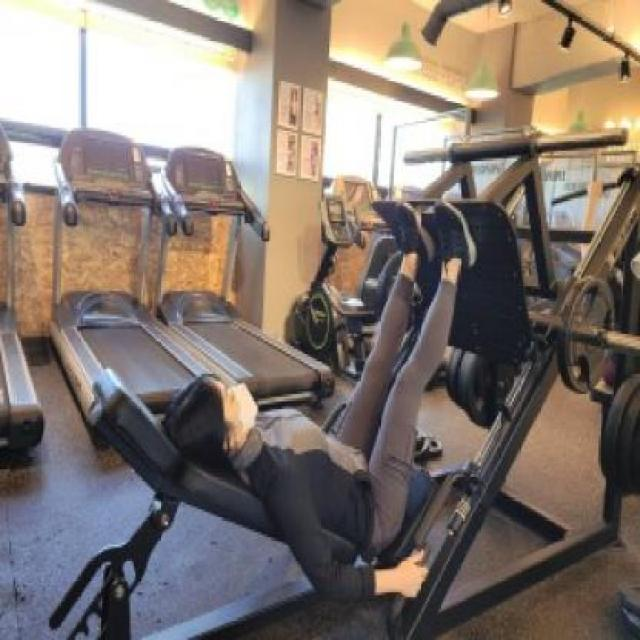leg press: (49, 83, 640, 640)
